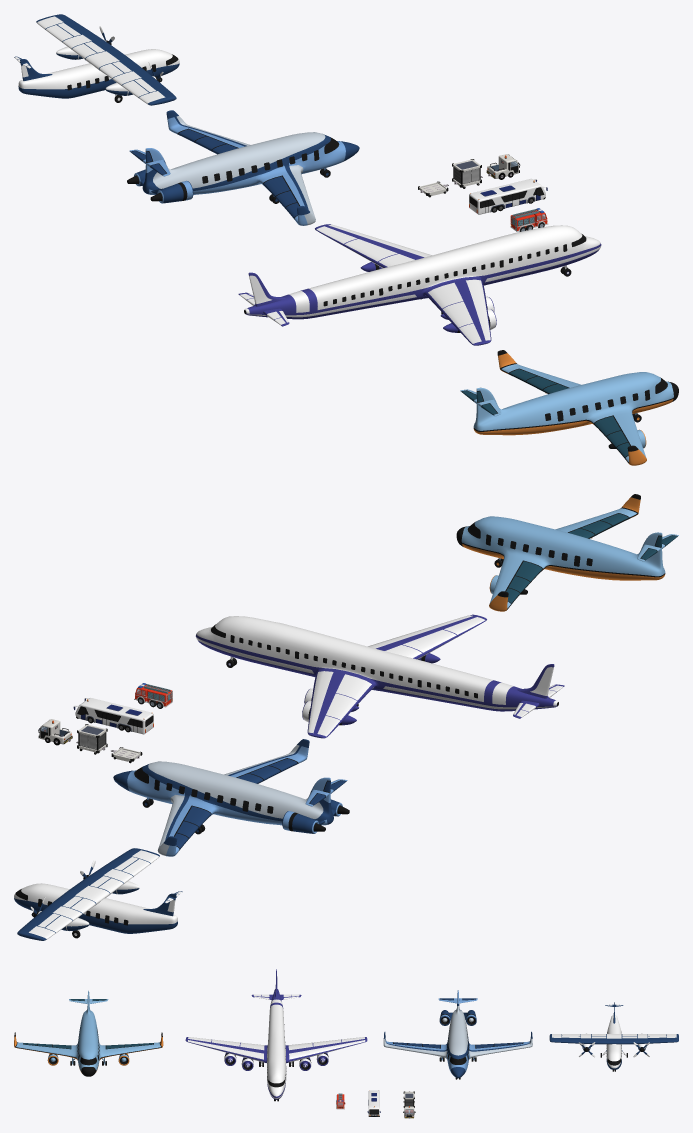
Rendered from airport_transport.glb.
The picture shows the model from 3 angles, top to bottom: view 1: azimuth 30°, elevation 25°; view 2: azimuth 150°, elevation 25°; view 3: azimuth 270°, elevation 25°; orthographic projection. The views are drawn at different scales.
Parts seen in each view (by area): view 1: 18.2.Airplane, 18.3.Airplane, 18.1.Airplane, 18.4.Airplane, 20.PassengerBus, 21.2.BaggageTruck, 19.Firetruck; view 2: 18.2.Airplane, 18.3.Airplane, 18.1.Airplane, 18.4.Airplane, 20.PassengerBus, 21.2.BaggageTruck, 19.Firetruck; view 3: 18.2.Airplane, 18.3.Airplane, 18.1.Airplane, 18.4.Airplane, 20.PassengerBus.
Boxes of the visible parts, <box> form: 18.2.Airplane: <box>238,224,601,345</box>; 18.3.Airplane: <box>127,110,359,225</box>; 18.1.Airplane: <box>460,350,678,465</box>; 18.4.Airplane: <box>14,14,179,105</box>; 20.PassengerBus: <box>469,178,547,214</box>; 21.2.BaggageTruck: <box>452,159,482,188</box>; 19.Firetruck: <box>510,208,548,231</box>; 18.2.Airplane: <box>195,614,564,738</box>; 18.3.Airplane: <box>113,739,349,856</box>; 18.1.Airplane: <box>456,494,678,611</box>; 18.4.Airplane: <box>14,848,182,940</box>; 20.PassengerBus: <box>73,698,153,734</box>; 21.2.BaggageTruck: <box>76,724,107,754</box>; 19.Firetruck: <box>134,683,172,708</box>; 18.2.Airplane: <box>185,969,367,1101</box>; 18.3.Airplane: <box>383,990,532,1079</box>; 18.1.Airplane: <box>14,990,163,1076</box>; 18.4.Airplane: <box>549,1002,678,1071</box>; 20.PassengerBus: <box>367,1090,380,1116</box>.
Size of what is drawn, in the model's own units: 99.22 by 19.31 by 260.
1 material, 1 textured.
